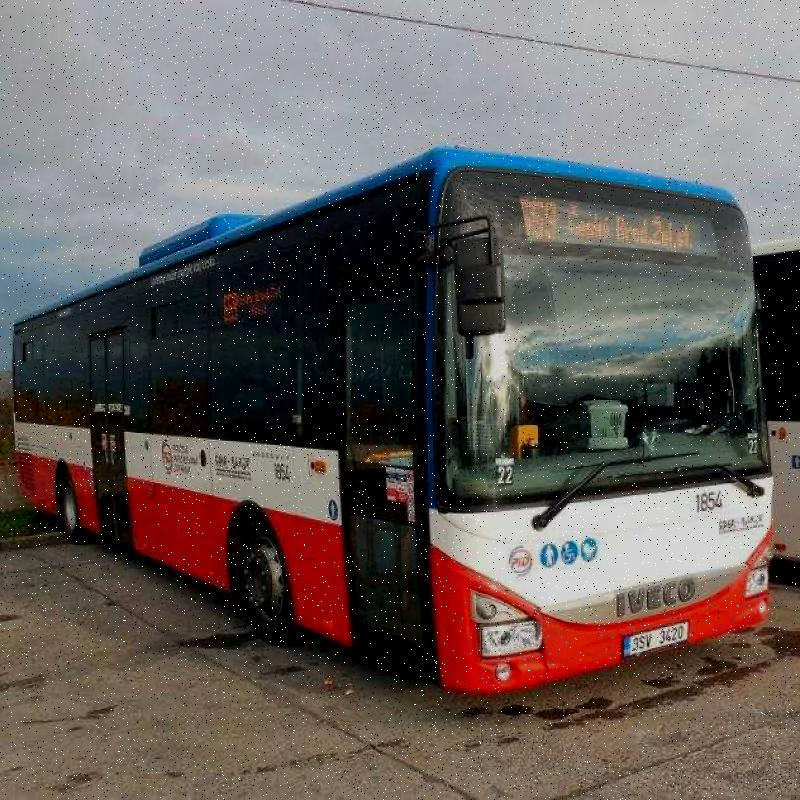bus: (10, 129, 800, 725)
